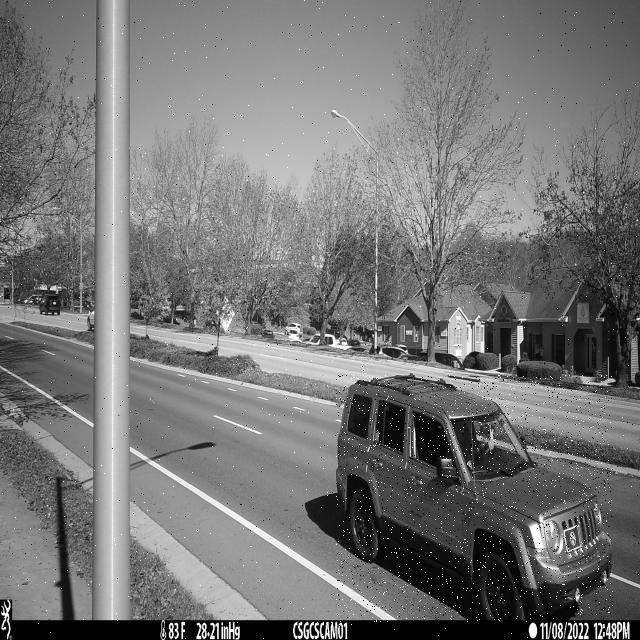SUV: (336, 375, 613, 622)
